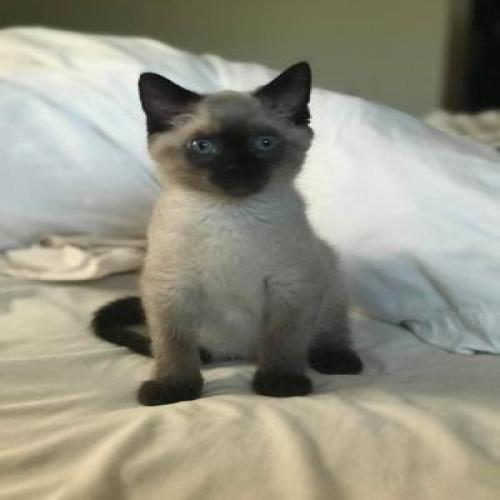siamese: (125, 61, 326, 214)
